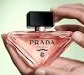prada_paradoxe: (4, 8, 74, 69)
